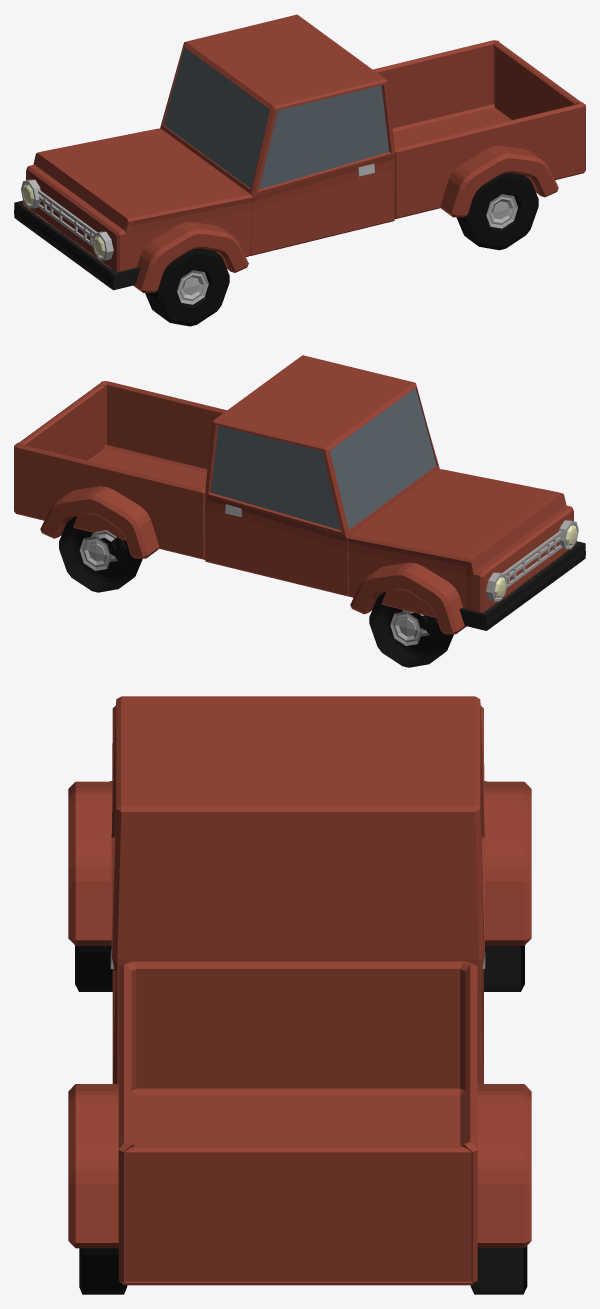
File: pickup truck2.glb
3 renders of one model, top to bottom at view 1: azimuth 30°, elevation 25°; view 2: azimuth 150°, elevation 25°; view 3: azimuth 270°, elevation 25°, orthographic. The views are drawn at different scales.
Visible parts, largest first — view 1: BackLeftWheel; view 2: BackLeftWheel; view 3: BackLeftWheel.
Boxes of the visible parts, left/top/right/bottom form: BackLeftWheel: left=14, top=14, right=585, bottom=326; BackLeftWheel: left=14, top=355, right=585, bottom=667; BackLeftWheel: left=68, top=696, right=531, bottom=1294.
Size of the model in its own units: 17.95 by 6.75 by 7.49.
